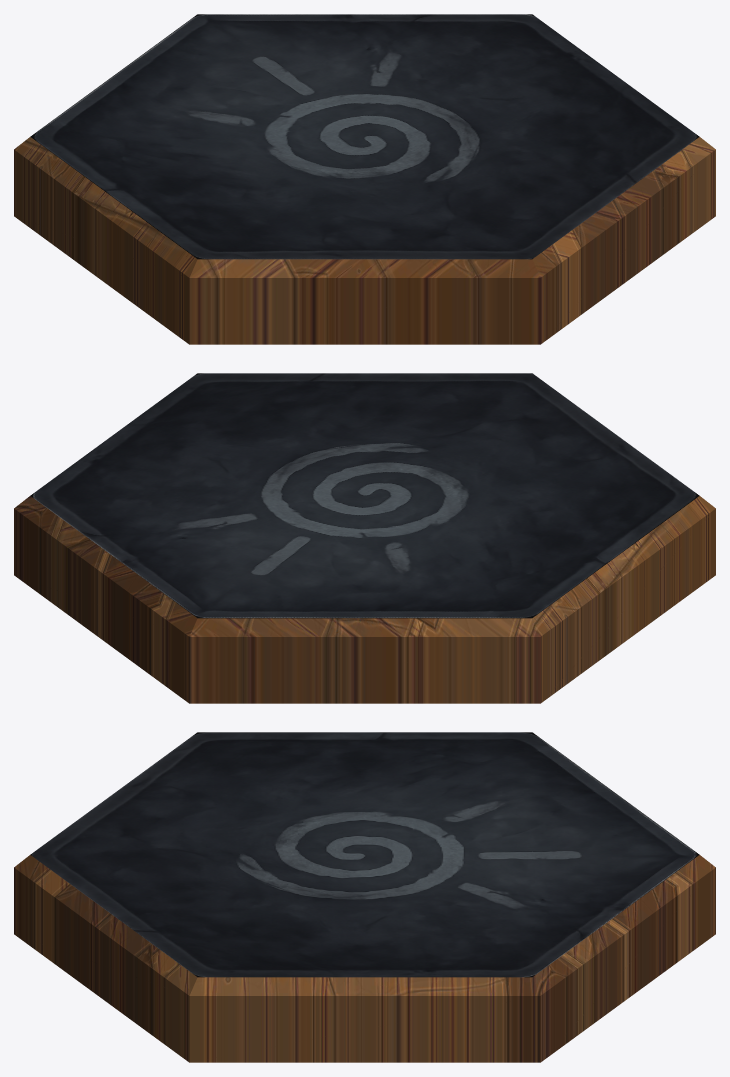
File: undiscovered.glb
3 views of the same model, one above another, from view 1: azimuth 30°, elevation 25°; view 2: azimuth 150°, elevation 25°; view 3: azimuth 270°, elevation 25° (orthographic).
Visible parts, largest first — view 1: Circle; view 2: Circle; view 3: Circle.
Boxes of the visible parts, x1=… form: Circle: x1=14, y1=14, x2=715, y2=344; Circle: x1=14, y1=373, x2=715, y2=703; Circle: x1=14, y1=732, x2=715, y2=1062.
Bounding box in the file's own units: 1.73 × 0.25 × 2.
Materials: 2 (2 with a texture image).
